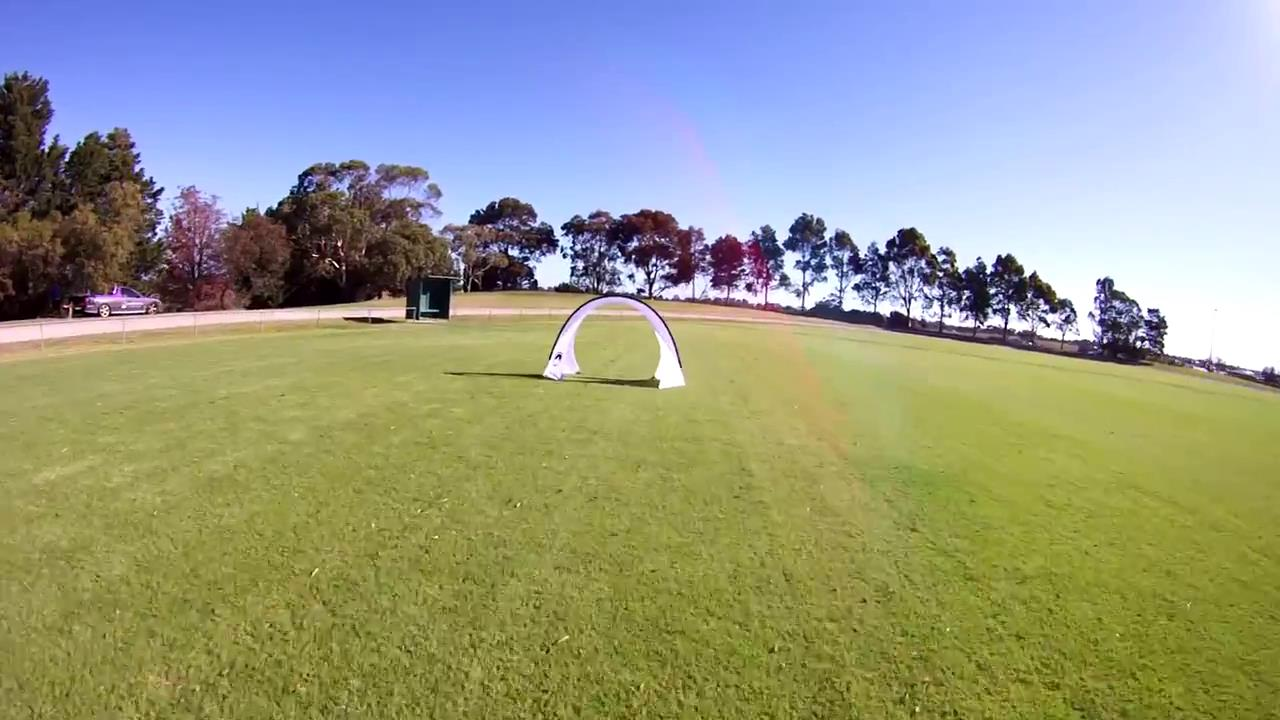gate: (539, 291, 688, 391)
